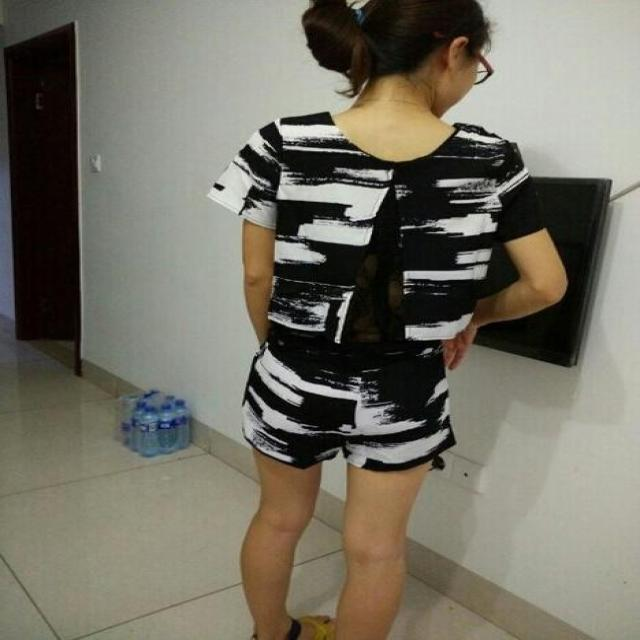short-sleeve-dress: (229, 104, 510, 510)
